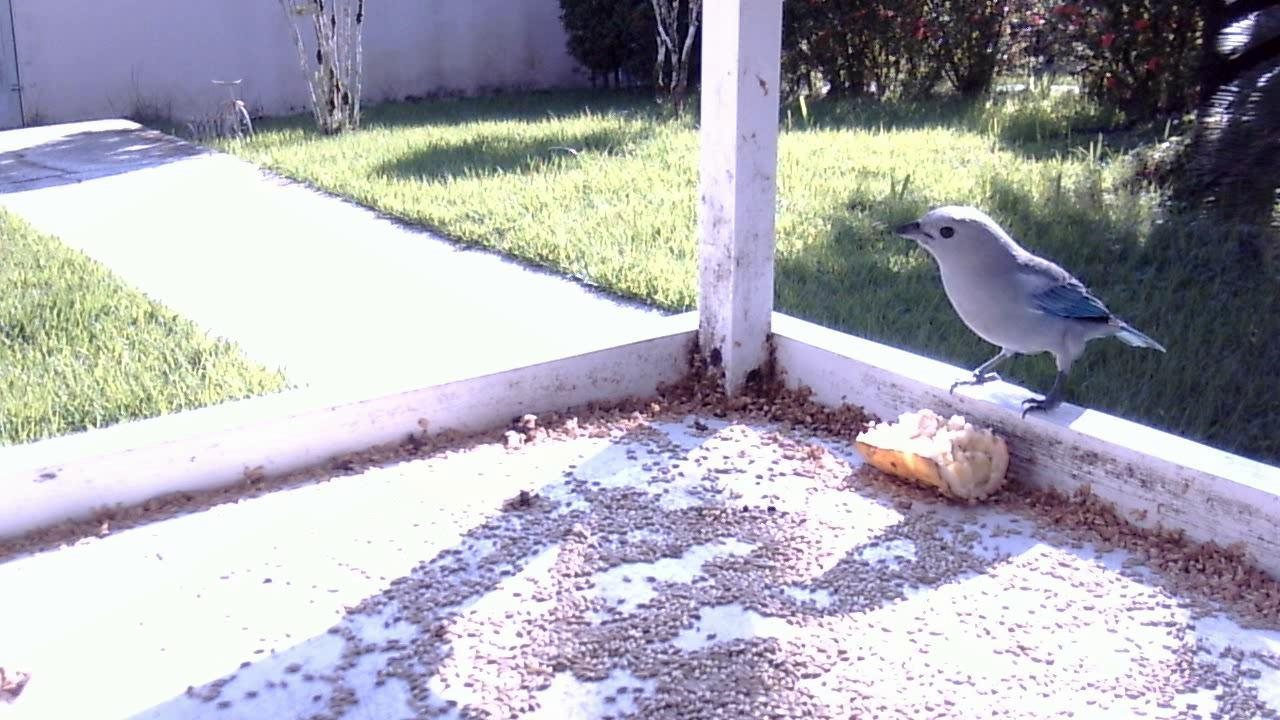sanhaco_da_amazonia: (884, 201, 1172, 428)
